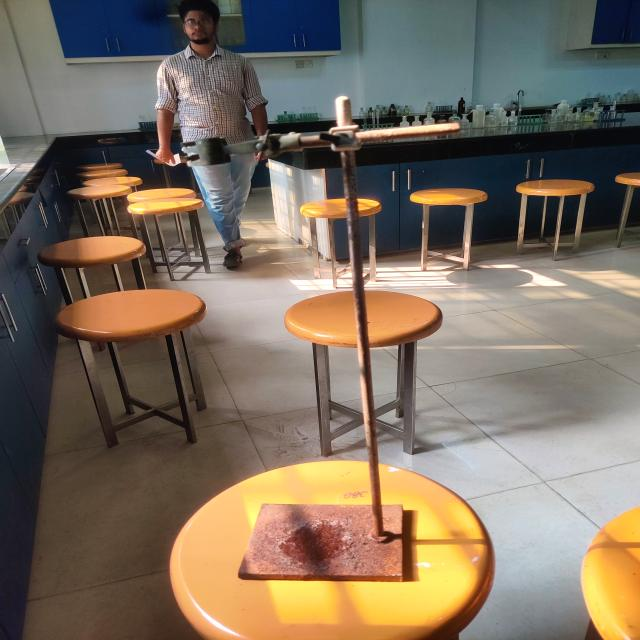Burette_Stands: (154, 105, 478, 616)
